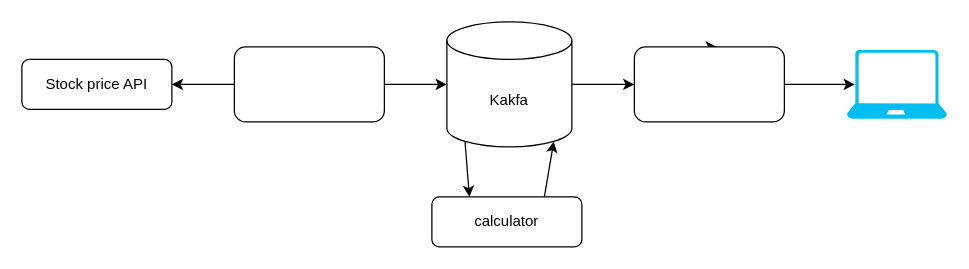
This 969x269 diagram has some shape labels left out. Each missing label, with the box of its shape:
API endpoint to expose transomed stock data: (633, 46, 784, 122)
service retrieve data from API: (233, 46, 384, 122)
